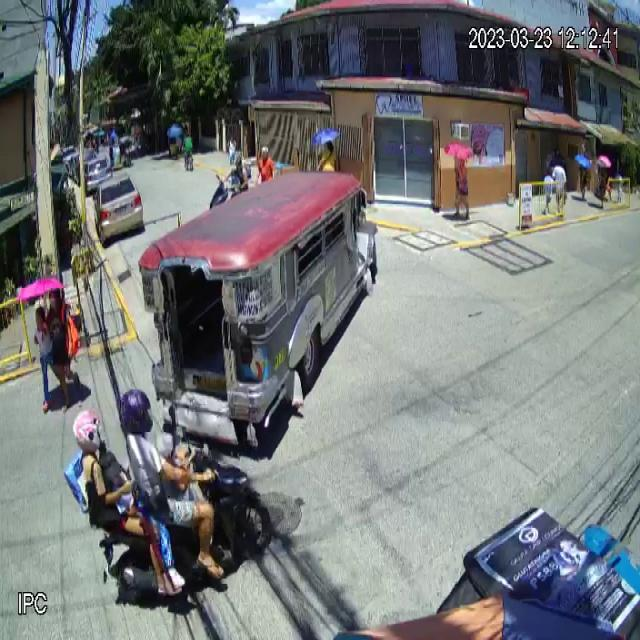Jeep: (136, 168, 382, 452)
